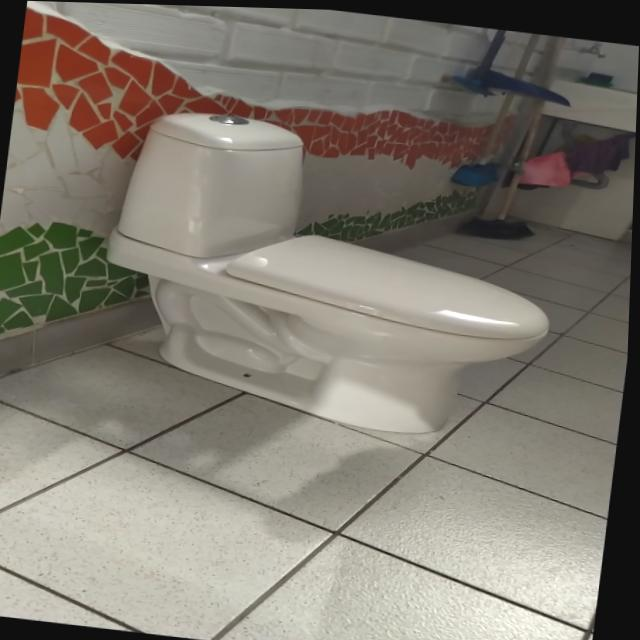toilet: (89, 99, 573, 446)
